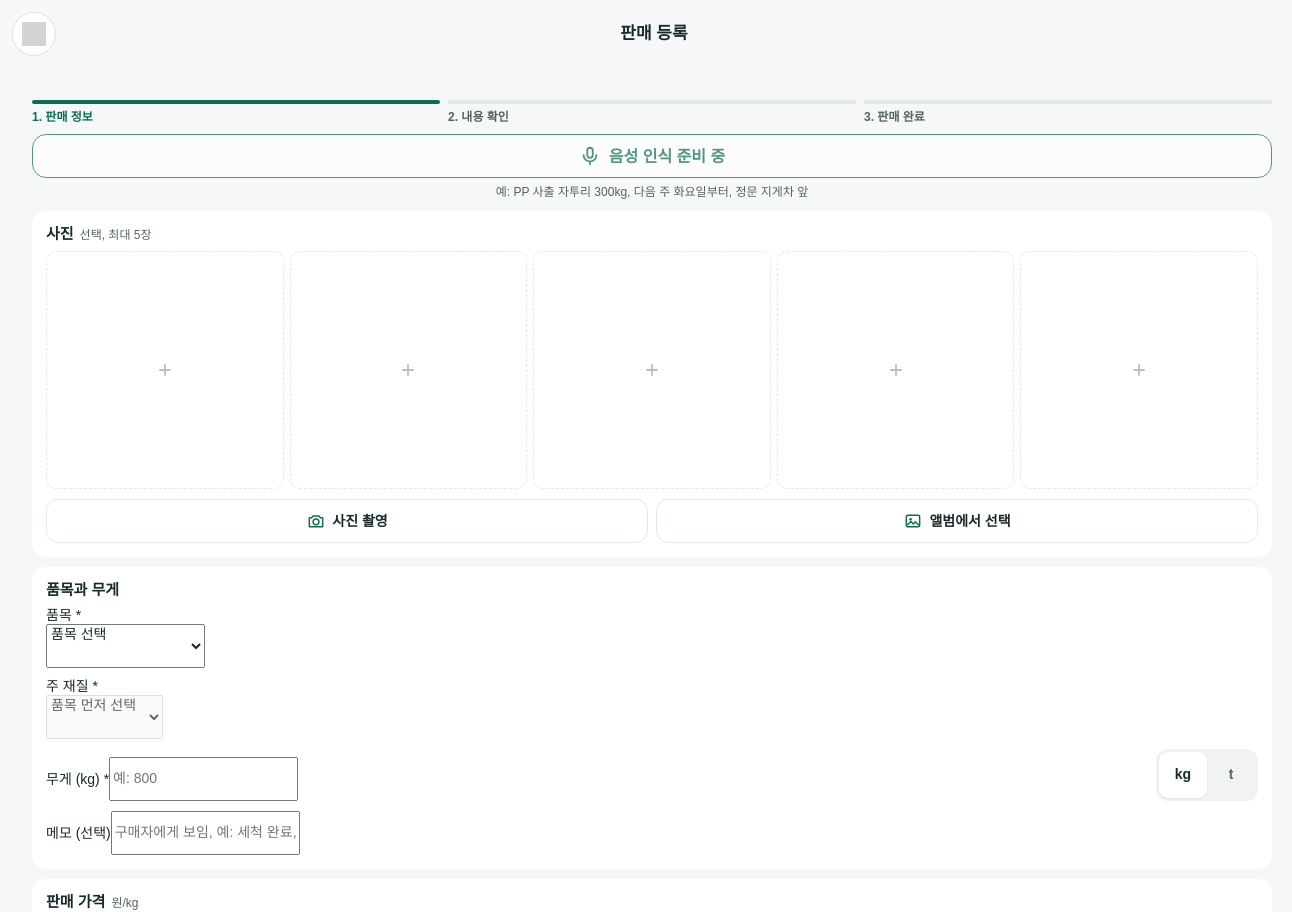
Scenario: 품목 목록에 없는 재질 후보는 직접 입력 칸으로 들어간다
The width and height of the screenshot is (1292, 912).
Select "고철" in the dropdown labelled "품목 *" at (126, 646), box [46,624,205,668]
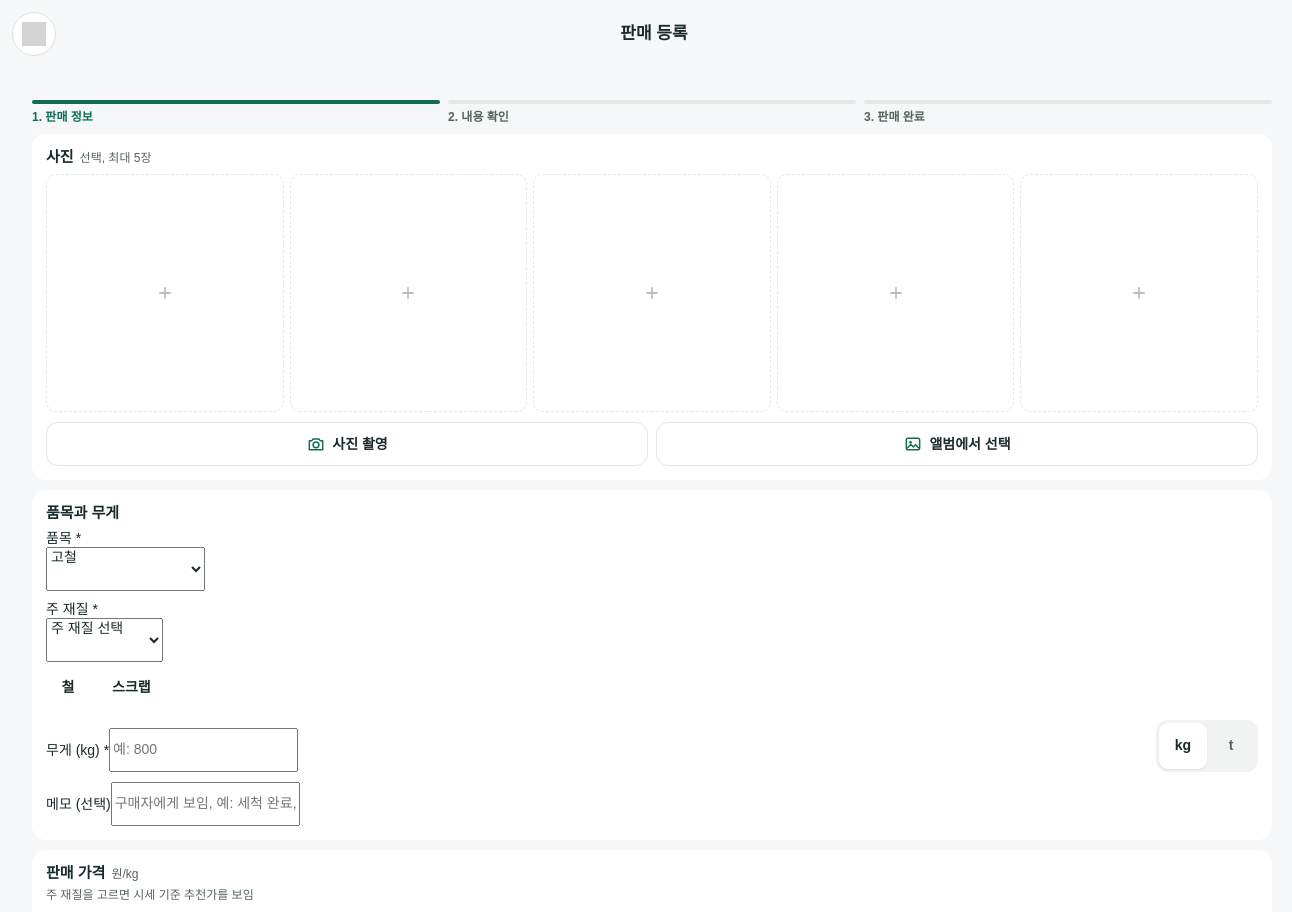
Click the button "스크랩".
click(131, 688)  # box [98,666,165,710]
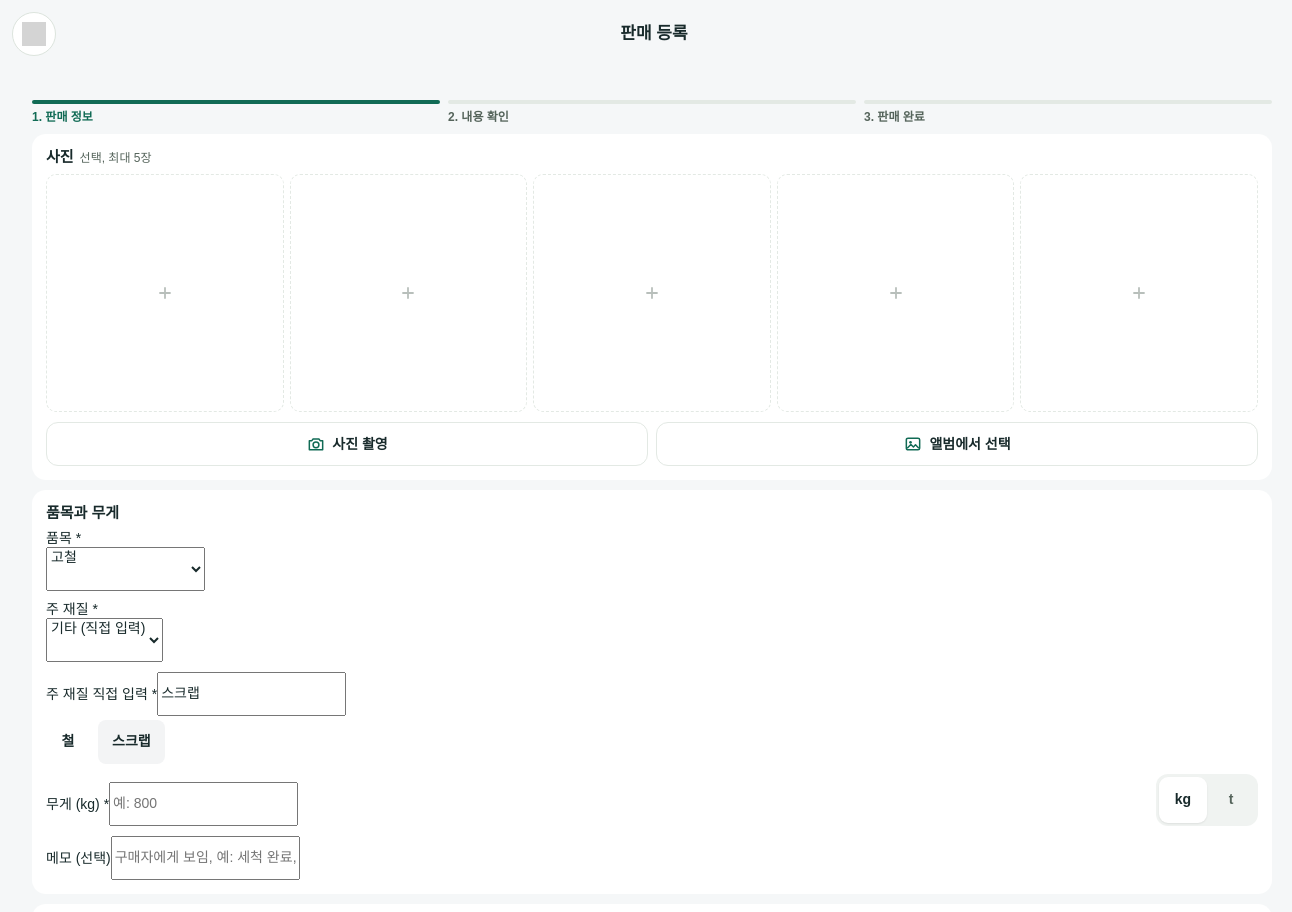
Result: the field with placeholder "예: 스티로폼, 폐유리" holds "스크랩" at [157,672,346,716]
